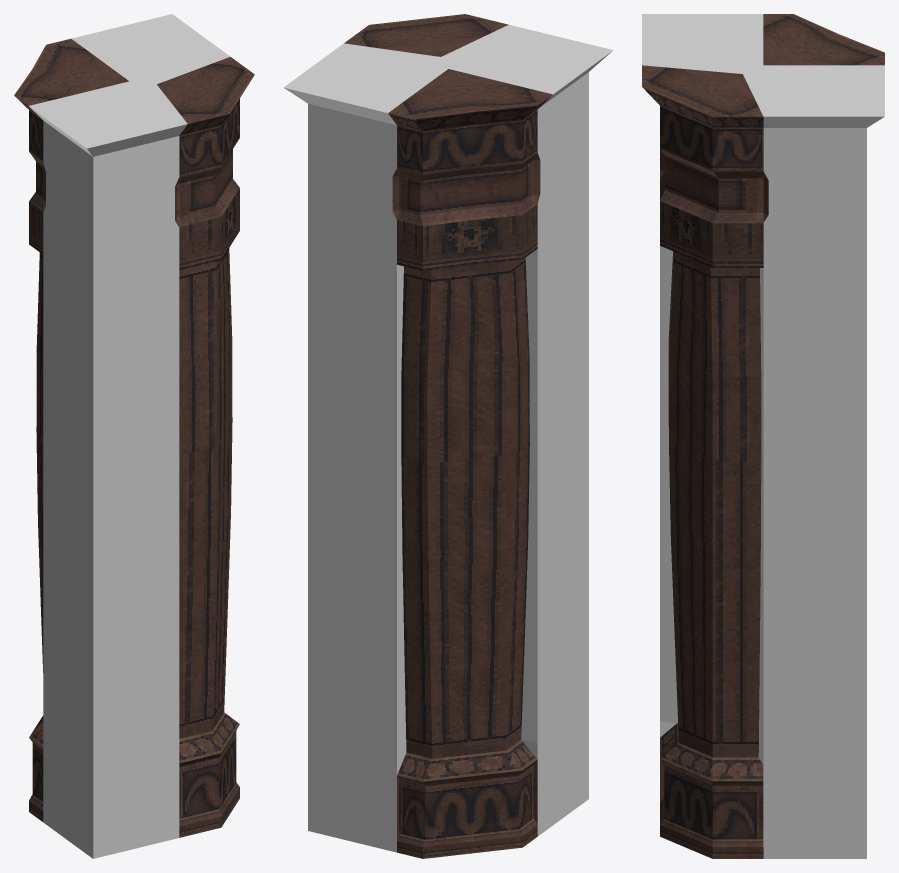
The model's file is sm_pillar_corner_wall_01.glb.
3 views of the same model, side by side, from view 1: azimuth 30°, elevation 25°; view 2: azimuth 150°, elevation 25°; view 3: azimuth 270°, elevation 25° (orthographic). The views are drawn at different scales.
Parts seen in each view (by area): view 1: Cube, Cube.001, Cube.003; view 2: Cube, Cube.003; view 3: Cube, Cube.001.
Boxes of the visible parts, x1=… form: Cube: x1=14, y1=14, x2=254, y2=858; Cube.001: x1=179, y1=248, x2=232, y2=738; Cube.003: x1=36, y1=252, x2=43, y2=672; Cube: x1=283, y1=14, x2=613, y2=858; Cube.003: x1=401, y1=258, x2=529, y2=758; Cube: x1=642, y1=14, x2=884, y2=858; Cube.001: x1=668, y1=251, x2=761, y2=757.
Size of what is drawn, in the model's own units: 2.35 by 8 by 2.35.
Materials: 2 (1 with a texture image).
